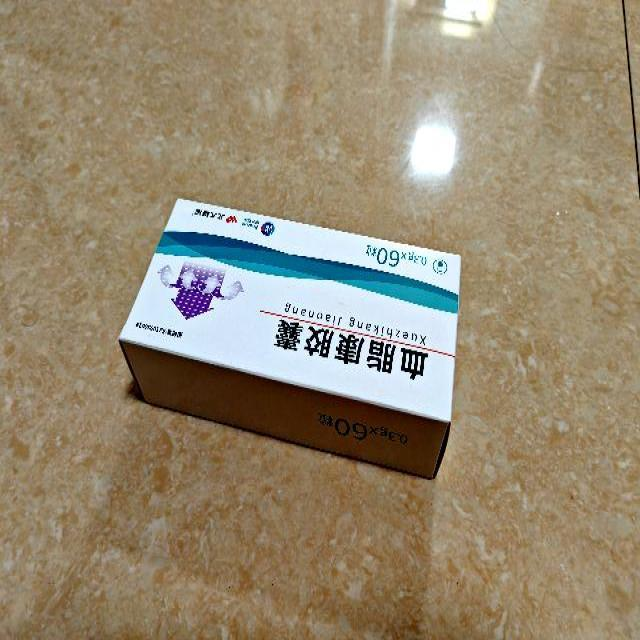box: (120, 196, 462, 480)
